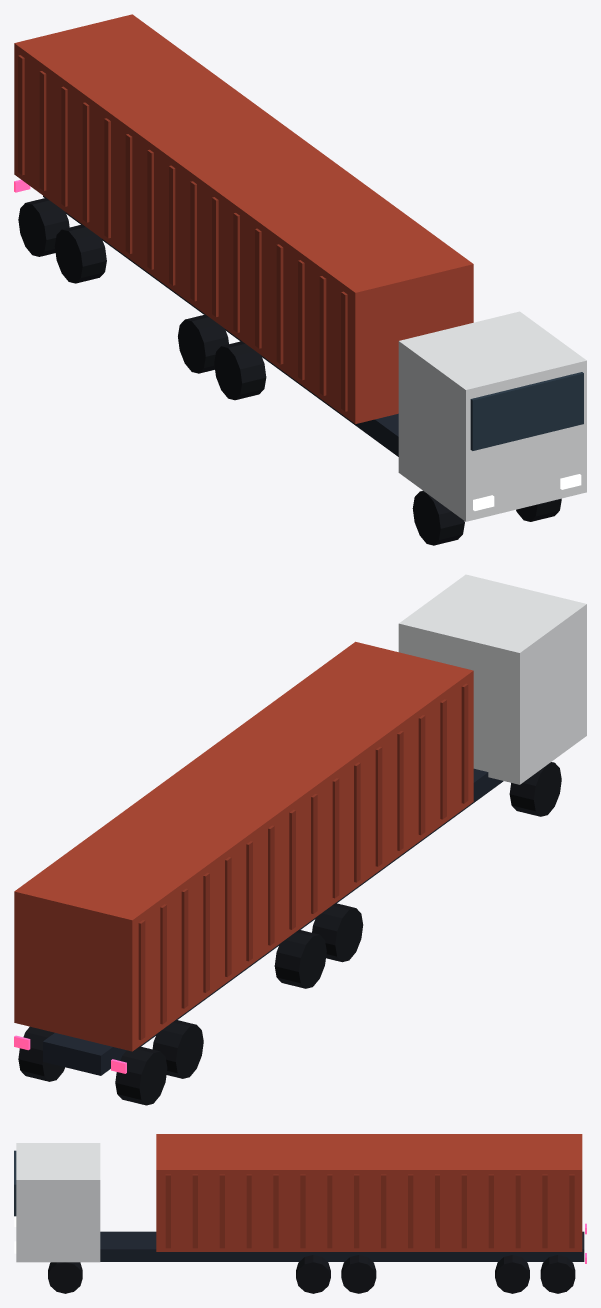
Rendered from container_truck_red.glb.
3 views of the same model, one above another, from view 1: azimuth 30°, elevation 25°; view 2: azimuth 150°, elevation 25°; view 3: azimuth 270°, elevation 25° (orthographic). The views are drawn at different scales.
Visible parts, largest first — view 1: truck; view 2: truck; view 3: truck.
Part boxes in pixels (x1,y1,x2,y2): truck: [14, 14, 586, 545]; truck: [14, 574, 586, 1105]; truck: [14, 1134, 586, 1293].
Bounding box in the file's own units: 2.54 × 3.89 × 16.4.
